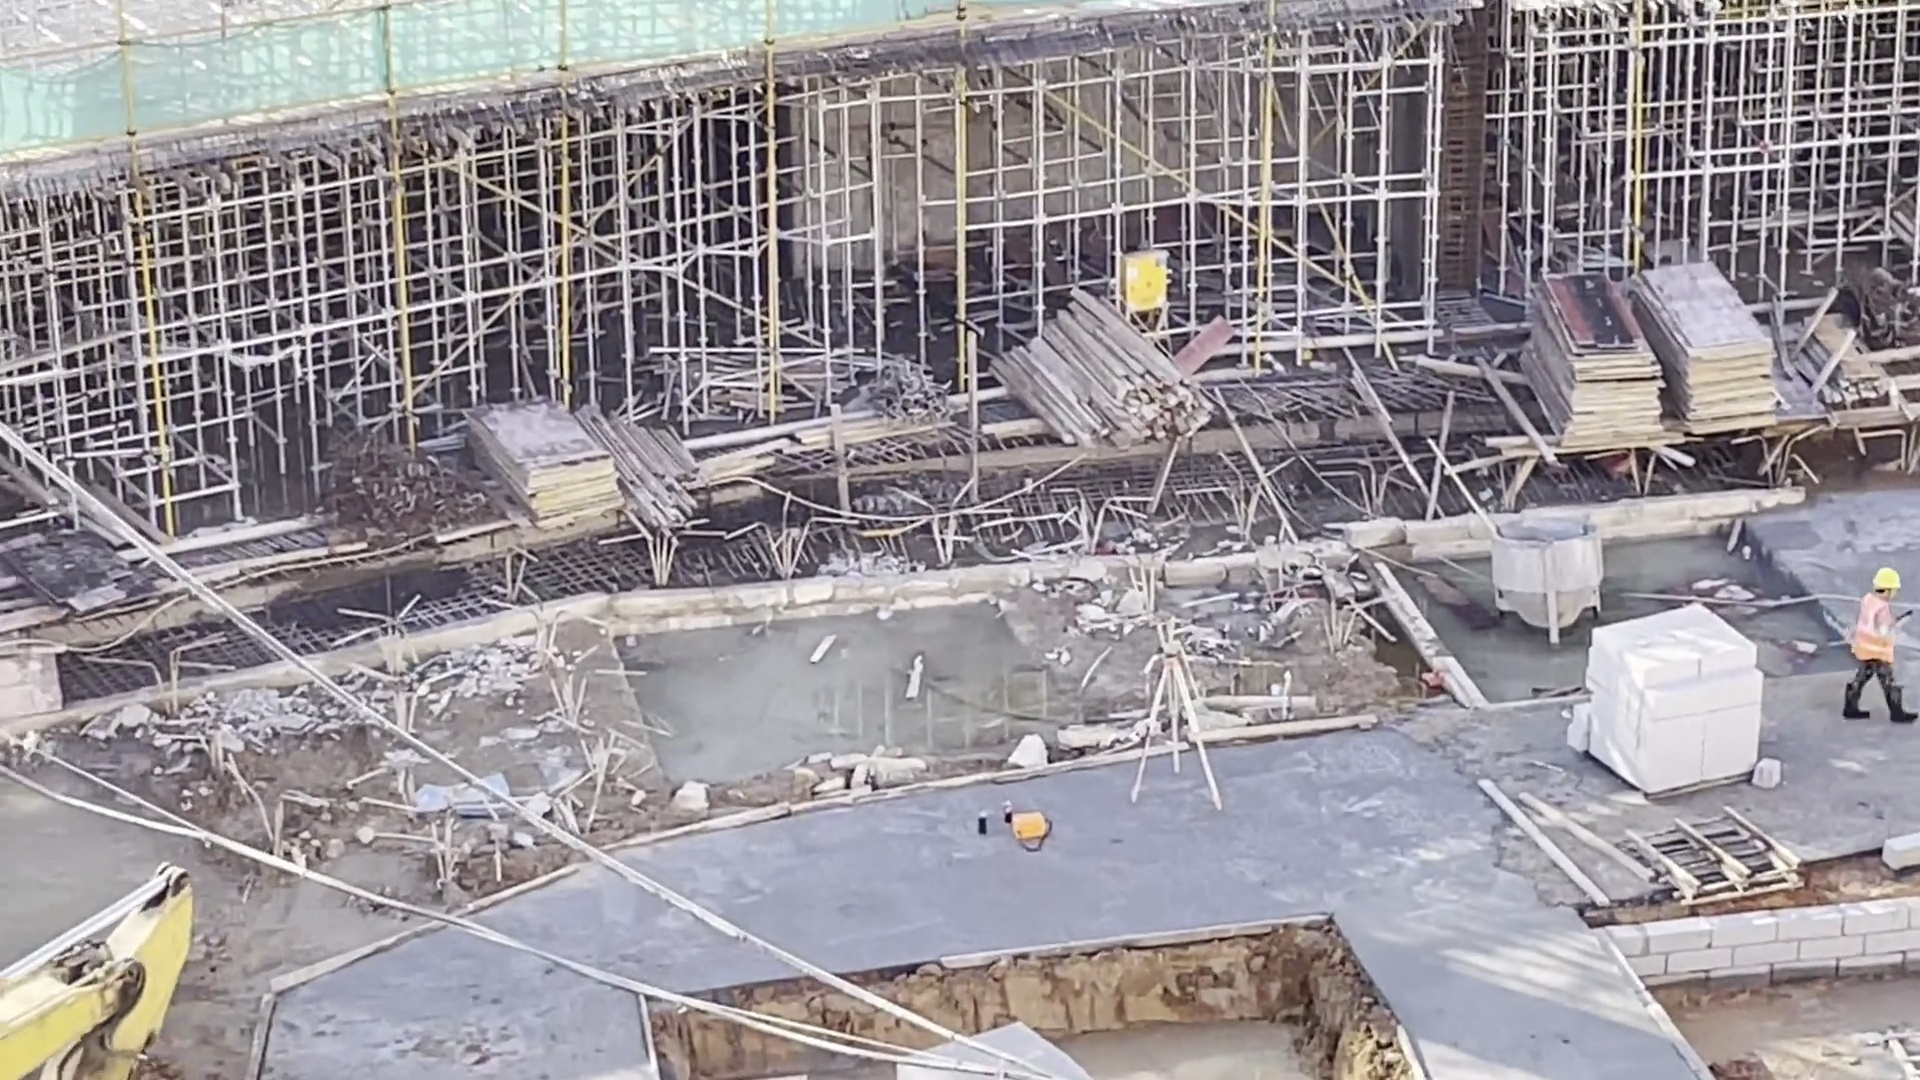board: (1518, 264, 1666, 457), (1644, 257, 1785, 438), (467, 393, 632, 532)
brick: (1568, 598, 1764, 795)
ebox: (1115, 246, 1174, 315)
helmet: (1870, 567, 1904, 592)
hopper: (1489, 513, 1606, 649)
person: (1830, 566, 1920, 725)
vest: (1848, 595, 1898, 661)
wood: (985, 287, 1214, 453), (626, 409, 703, 538)
